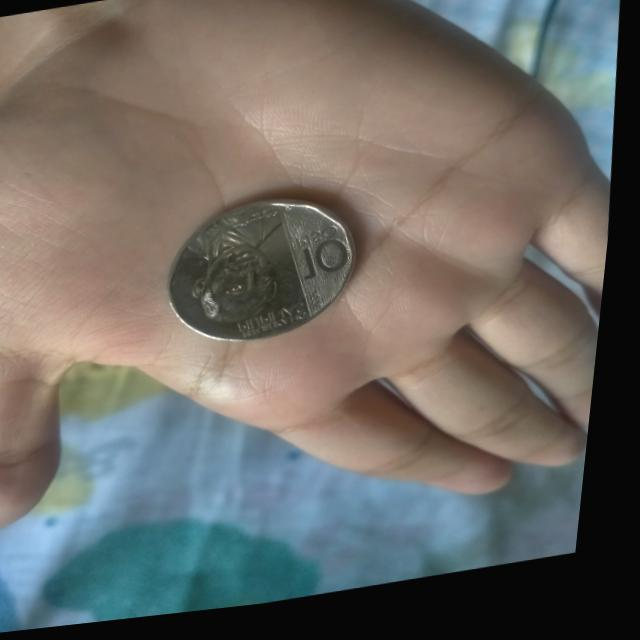10_New_Front: (196, 205, 363, 347)
